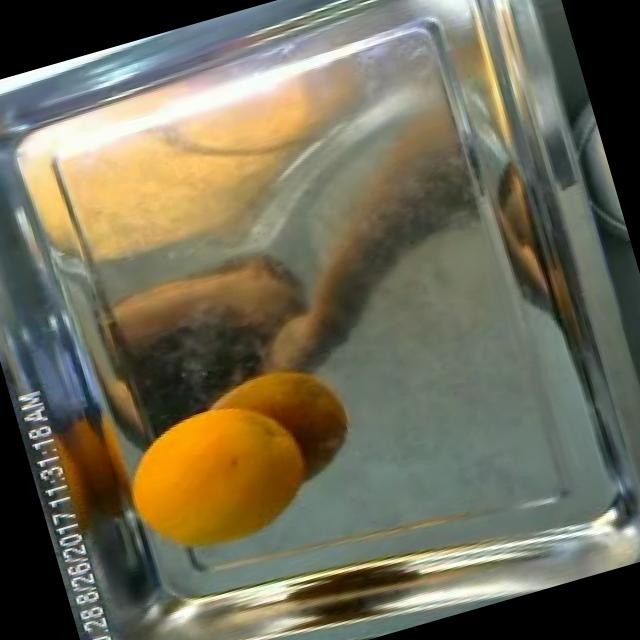Fruit: (90, 366, 348, 592), (61, 222, 318, 446)
